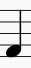F: (5, 7, 23, 60)
